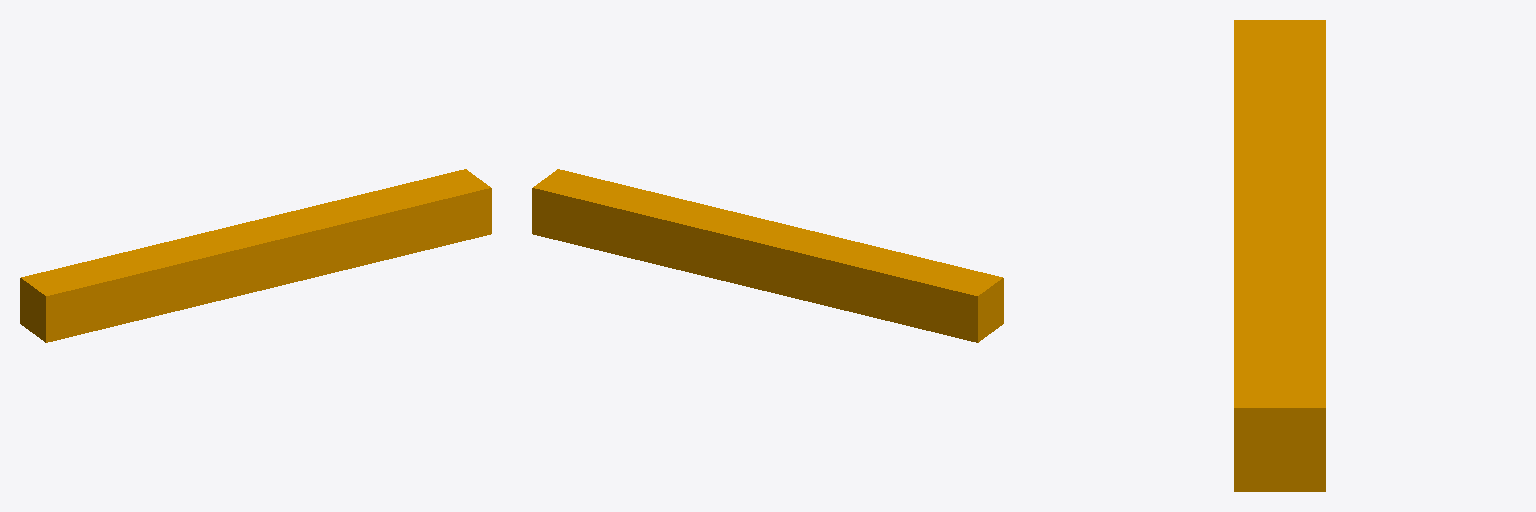
robot.urdf — simple_box:
<robot name="simple_box">
  <link name="my_box">
    <inertial>
      <origin xyz="0 0 0" />
      <mass value="1.0" />
      <inertia  ixx="1.0" ixy="0.0"  ixz="0.0"  iyy="100.0"  iyz="0.0"  izz="1.0" />
    </inertial>
    <visual>
      <origin xyz="0 0 0"/>
      <geometry>
        <box size="5.0 0.5 0.5" />
      </geometry>
    </visual>
    <collision>
      <origin xyz="0 0 0"/>
      <geometry>
        <box size="5.0 0.5 0.5" />
      </geometry>
    </collision>
  </link>
  <gazebo reference="my_box">
    <material>Gazebo/Grey</material>
  </gazebo>
</robot>

--- What the picture shows (computed from the rendered views, not written in the file) ---
The picture shows the robot from 3 angles, left to right: view 1: azimuth 30°, elevation 25°; view 2: azimuth 150°, elevation 25°; view 3: azimuth 270°, elevation 25°; orthographic projection.
Model simple_box with 1 links and 0 joints (none), rooted at my_box, posed every joint at zero.
Links seen in each view (by area): view 1: my_box; view 2: my_box; view 3: my_box.
Link boxes in pixels (left/top/right/bottom): my_box: left=20, top=169, right=491, bottom=342; my_box: left=532, top=169, right=1003, bottom=342; my_box: left=1234, top=20, right=1325, bottom=491.
Bounding box of the posed robot: 5 × 0.5 × 0.5 m (x, y, z).
Geometry: primitives only (box / cylinder / sphere), no mesh files.